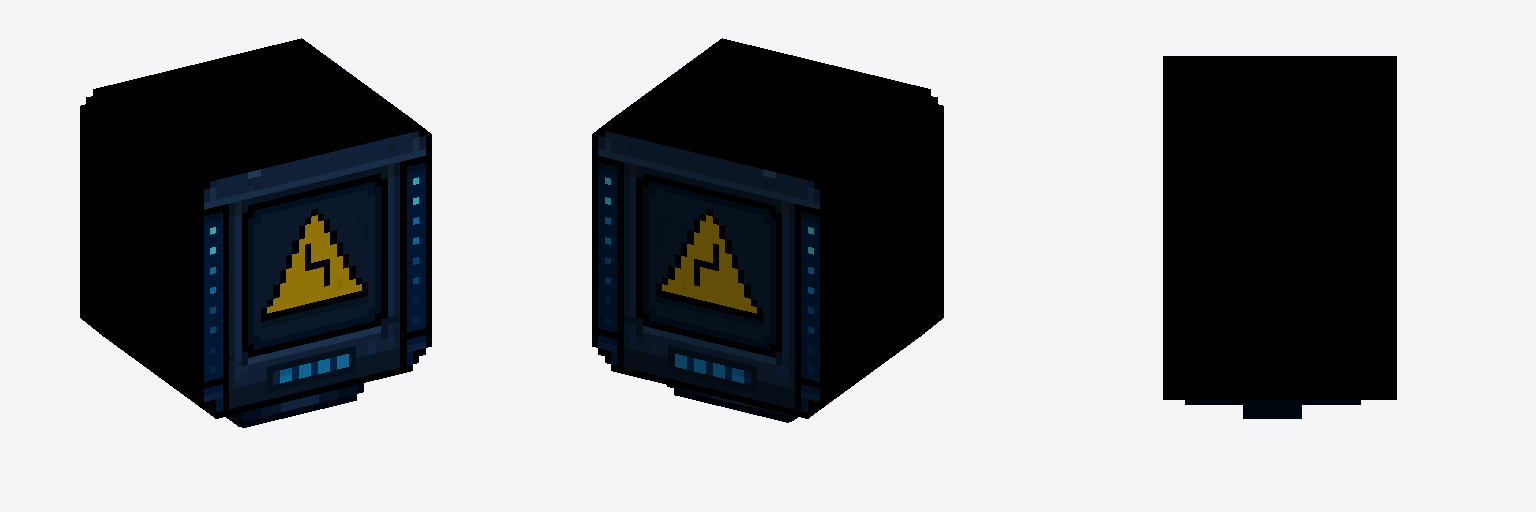
The picture shows the model from 3 angles: view 1: azimuth 30°, elevation 25°; view 2: azimuth 150°, elevation 25°; view 3: azimuth 270°, elevation 25°; orthographic projection.
Visible parts, largest first — view 1: object 1; view 2: object 1; view 3: object 1.
Boxes of the visible parts, box(x1,y1,x2,y2) form: object 1: box(80, 38, 431, 427); object 1: box(592, 38, 943, 422); object 1: box(1163, 56, 1396, 418).
Size of the model in its own units: 3.7 by 4.5 by 3.2.
Materials: 1 (1 with a texture image).